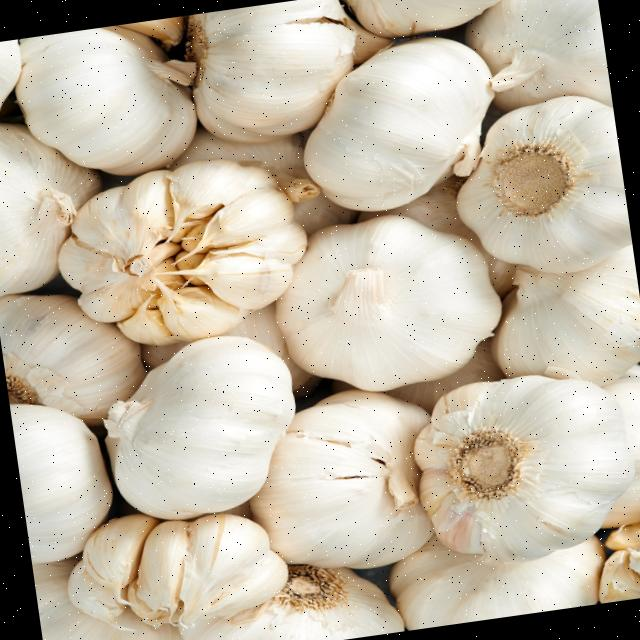garlic: (58, 159, 306, 343), (414, 375, 633, 562), (276, 215, 501, 391), (104, 336, 294, 519), (304, 37, 494, 211), (249, 389, 432, 569), (455, 96, 632, 274), (14, 26, 195, 175), (66, 514, 287, 631), (185, 0, 355, 143), (491, 245, 640, 387), (0, 295, 146, 425), (0, 123, 100, 296), (179, 565, 403, 640)
